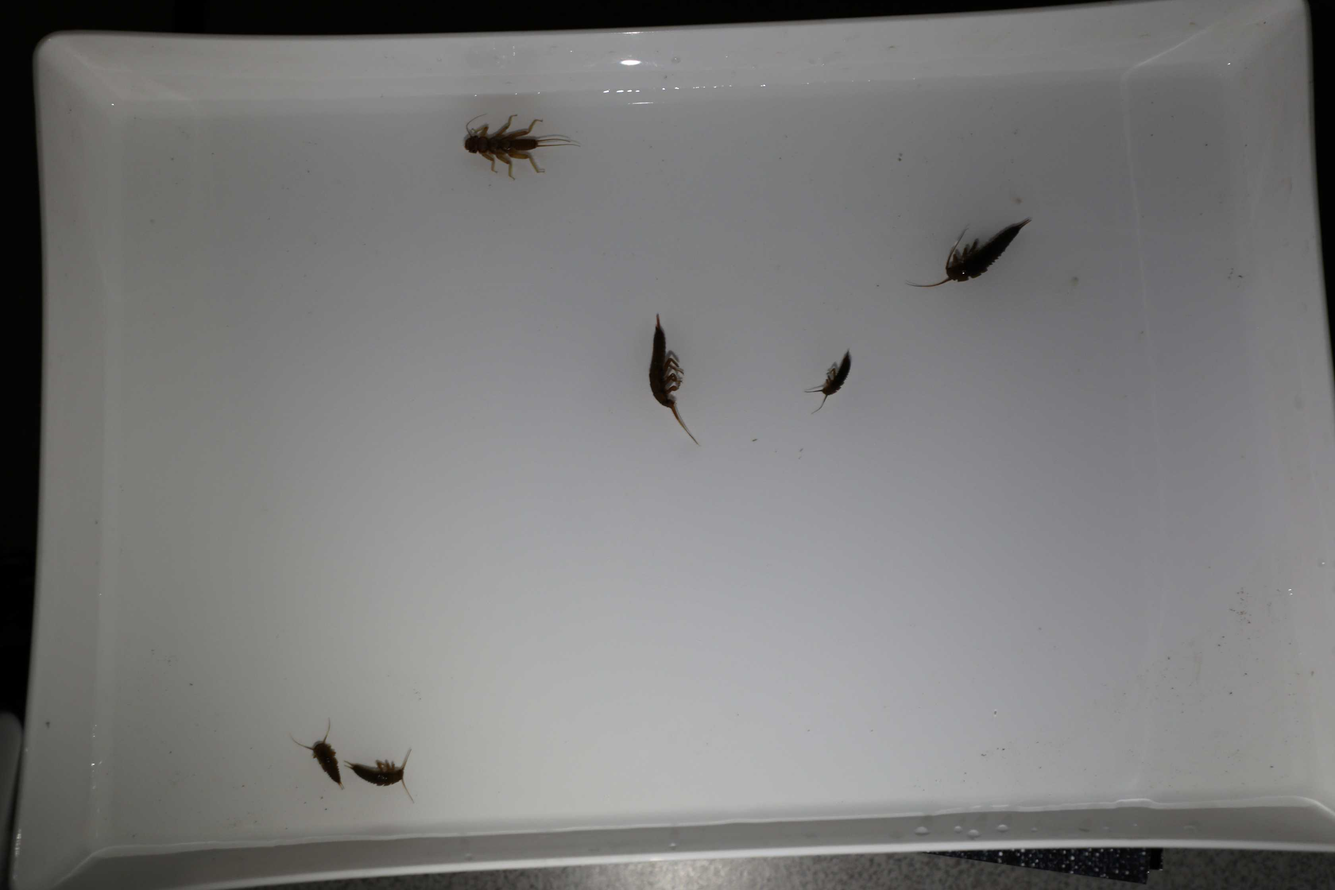Stonefly: (900, 218, 1030, 292), (459, 112, 573, 182), (646, 310, 700, 449), (287, 717, 343, 789), (801, 348, 852, 423), (350, 751, 416, 798)
